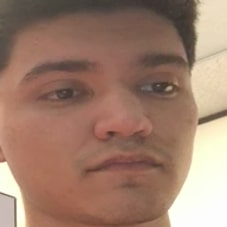awake: (14, 48, 197, 193)
